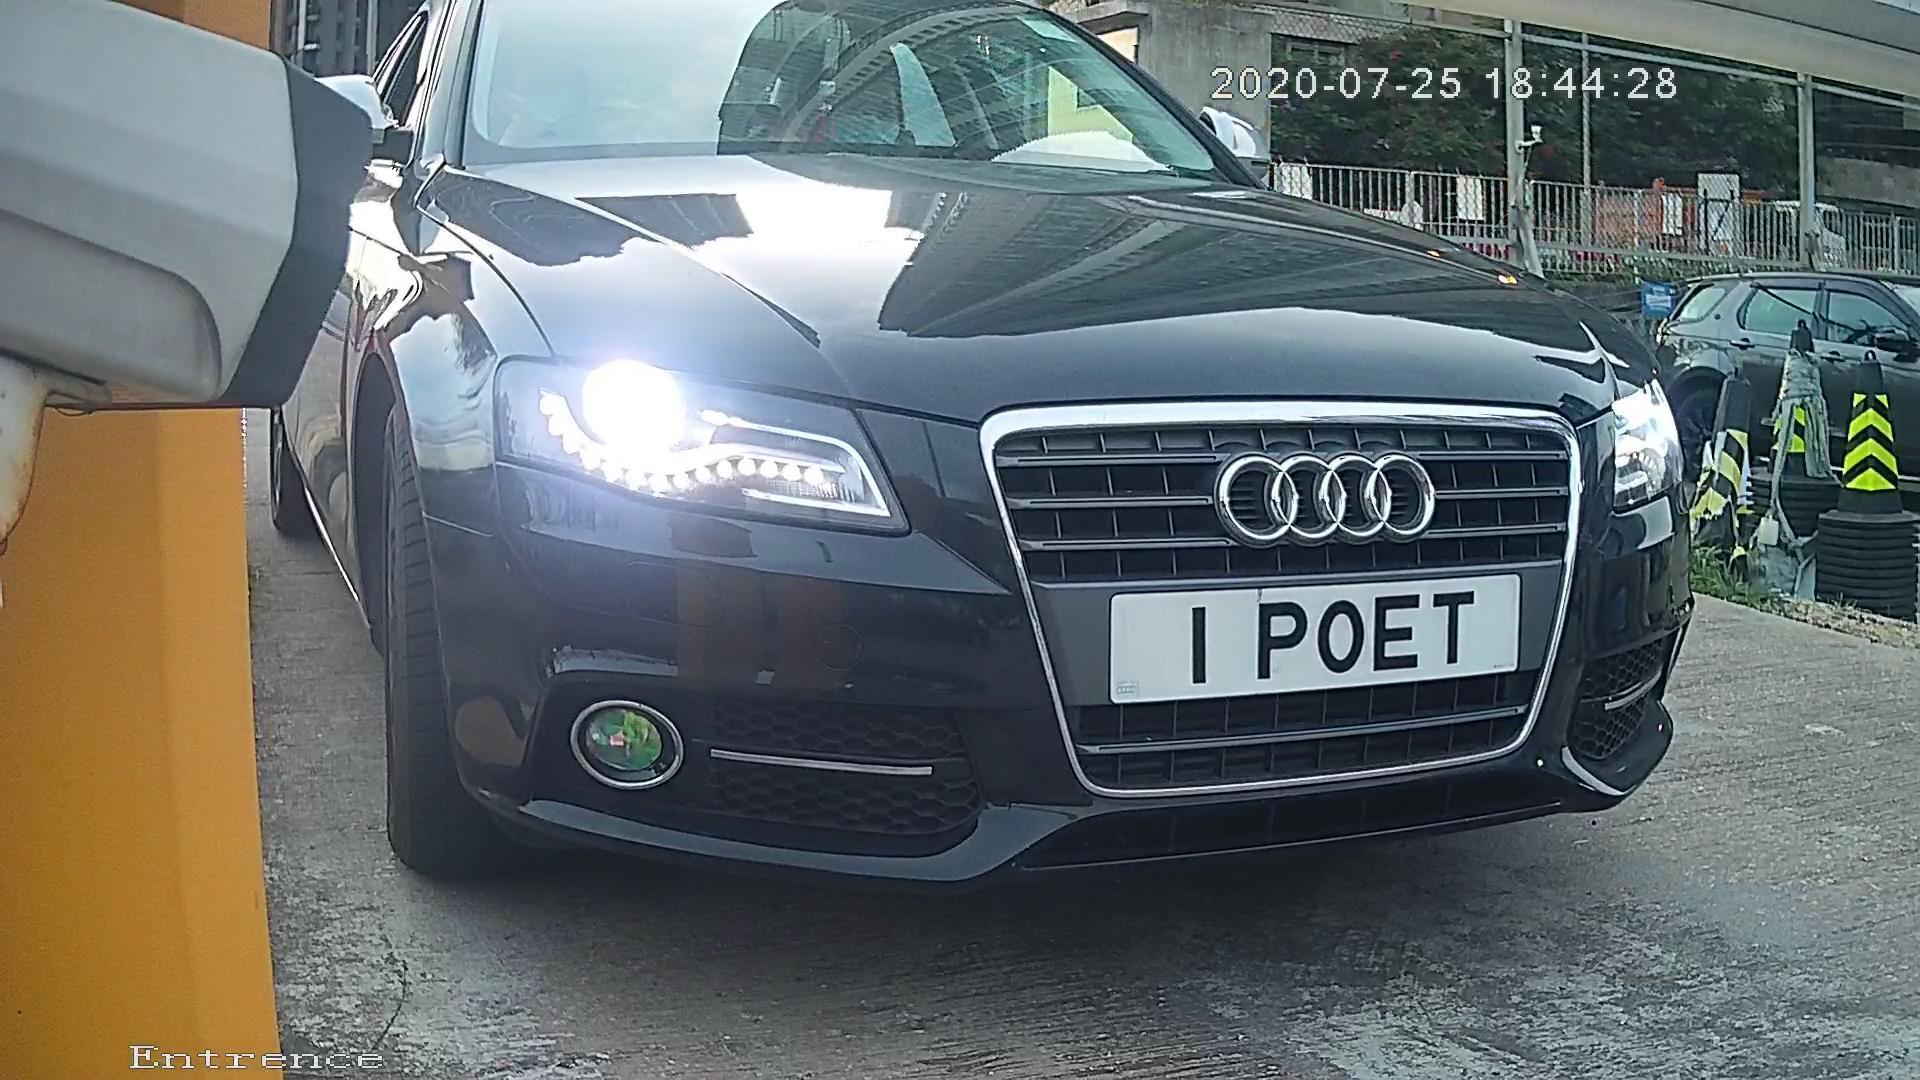privatecar: (223, 40, 1809, 942)
